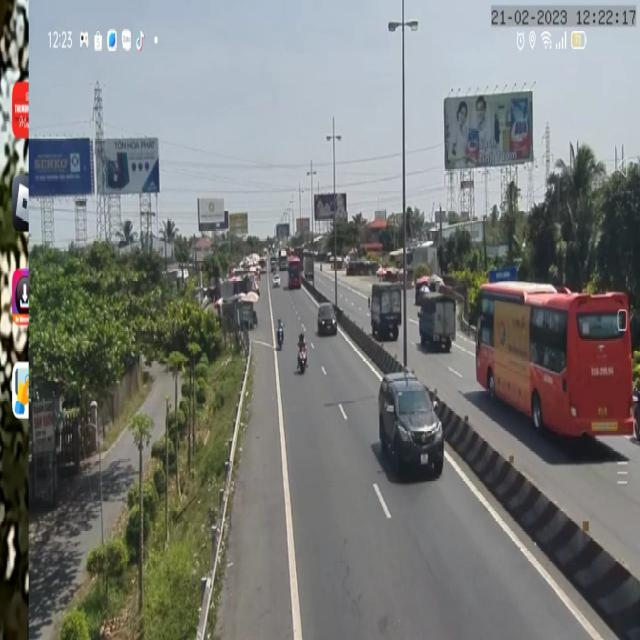bus: (474, 284, 634, 442), (284, 251, 301, 289)
car: (377, 374, 444, 484), (314, 302, 337, 338)
motorbike: (296, 328, 308, 375), (276, 315, 284, 348)
truck: (418, 292, 460, 352), (368, 282, 402, 340)
